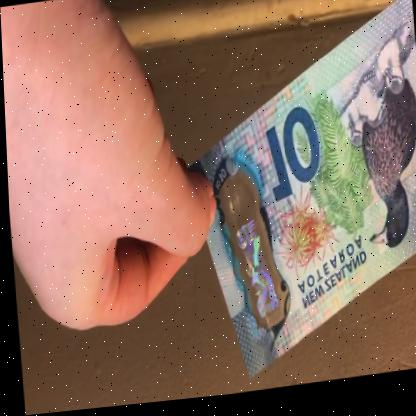10F: (230, 214, 282, 336)
